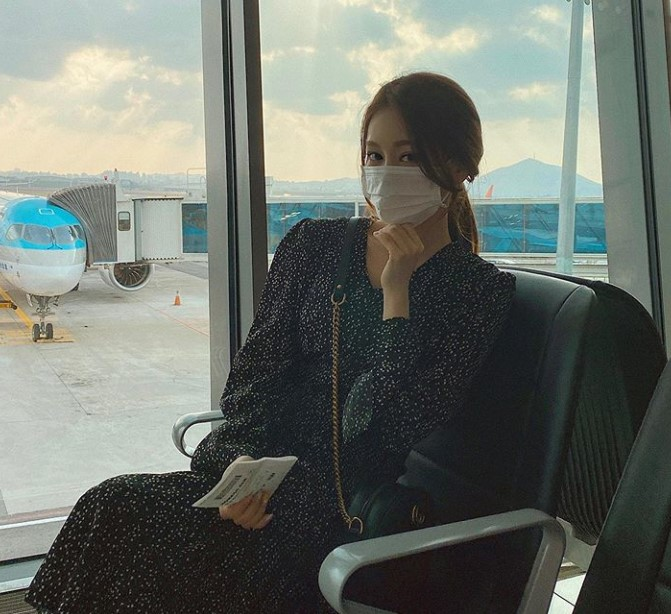face_with_mask: (356, 72, 485, 233)
